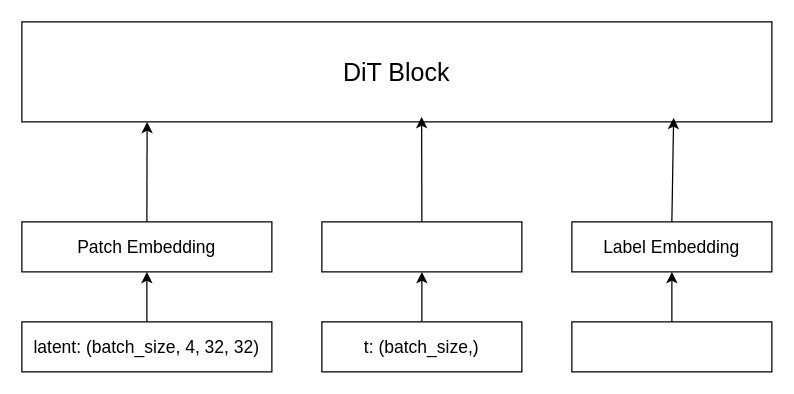
Image size: 794x394. Some labels were removed from this diagram. The shapes that lost their labels are listed below. From the top down, each one's box as (x1, y1, x2, y2) in pixels, then its label:
(321, 221, 522, 272): Time Embedding
(571, 321, 772, 372): y: (batch_size,)
